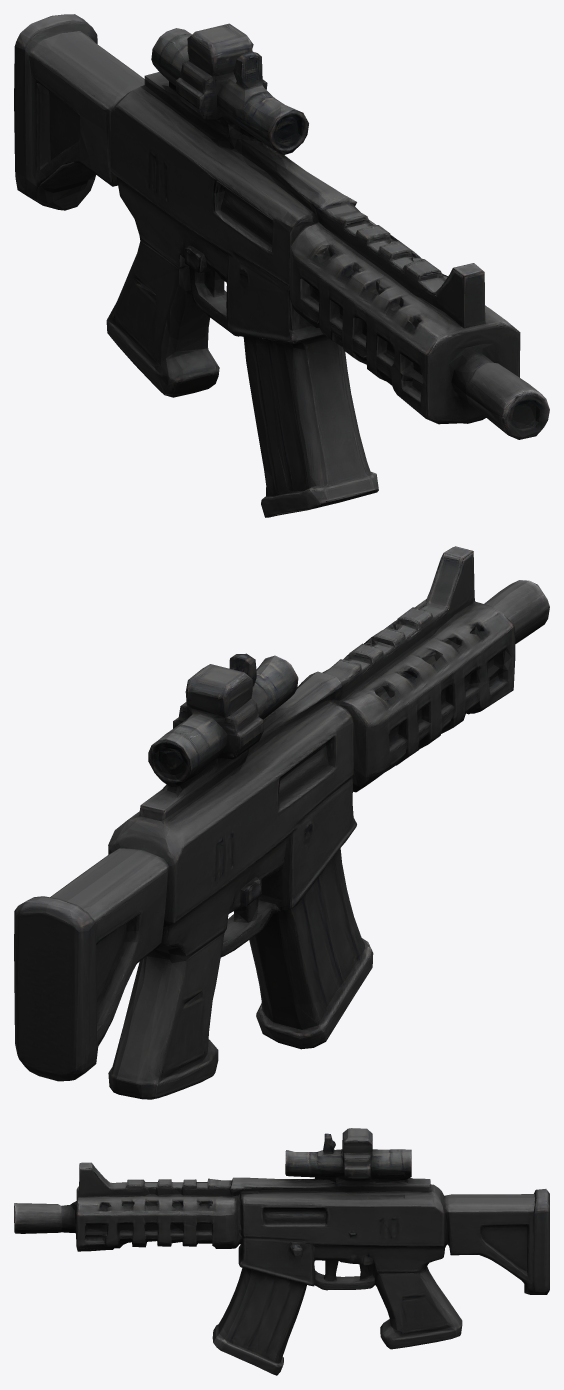
Rendered from weapon-rifle.glb.
3 views of the same model, one above another, from view 1: azimuth 30°, elevation 25°; view 2: azimuth 150°, elevation 25°; view 3: azimuth 270°, elevation 25° (orthographic). The views are drawn at different scales.
Parts seen in each view (by area): view 1: world; view 2: world; view 3: world.
Part boxes in pixels (x1,y1,x2,y2): world: (14, 14, 549, 517); world: (14, 546, 549, 1099); world: (14, 1128, 549, 1375).
Bounding box in the file's own units: 0.1331 × 0.4872 × 1.
Materials: 1 (1 with a texture image).
